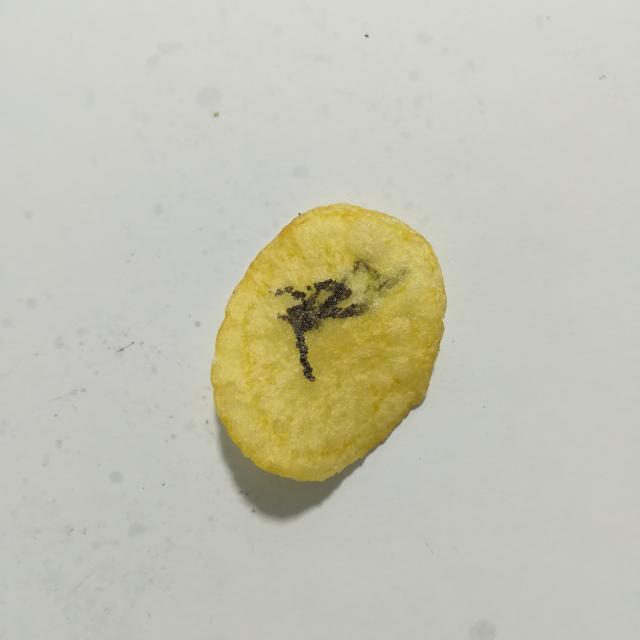chip: (211, 204, 446, 481)
damaged: (274, 279, 365, 382), (306, 285, 311, 290)
semi-damaged: (352, 259, 408, 300)
